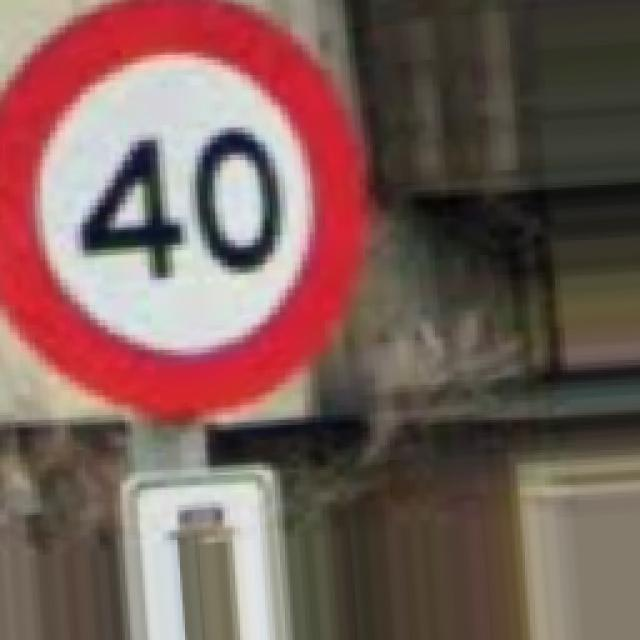Speed Limit -40-: (0, 0, 362, 415)
